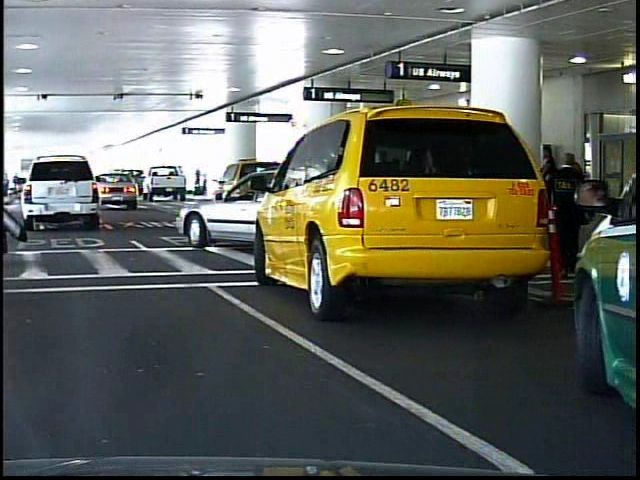person: (545, 148, 592, 274), (532, 144, 560, 234), (199, 168, 207, 197)
